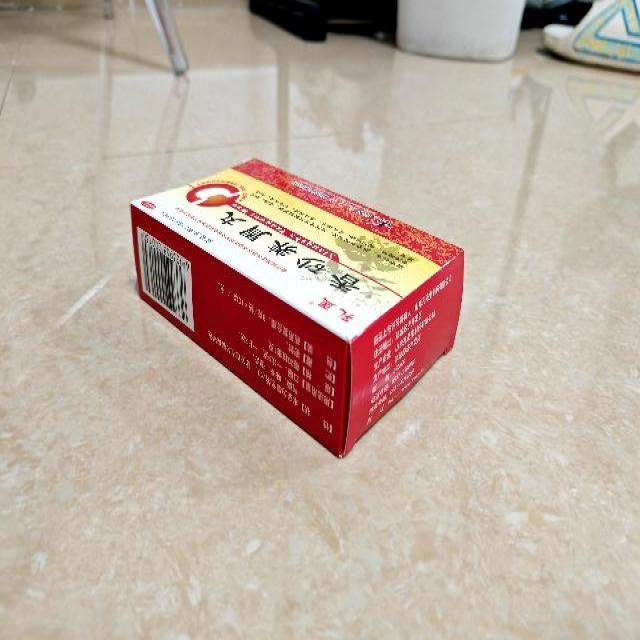box: (128, 158, 464, 462)
